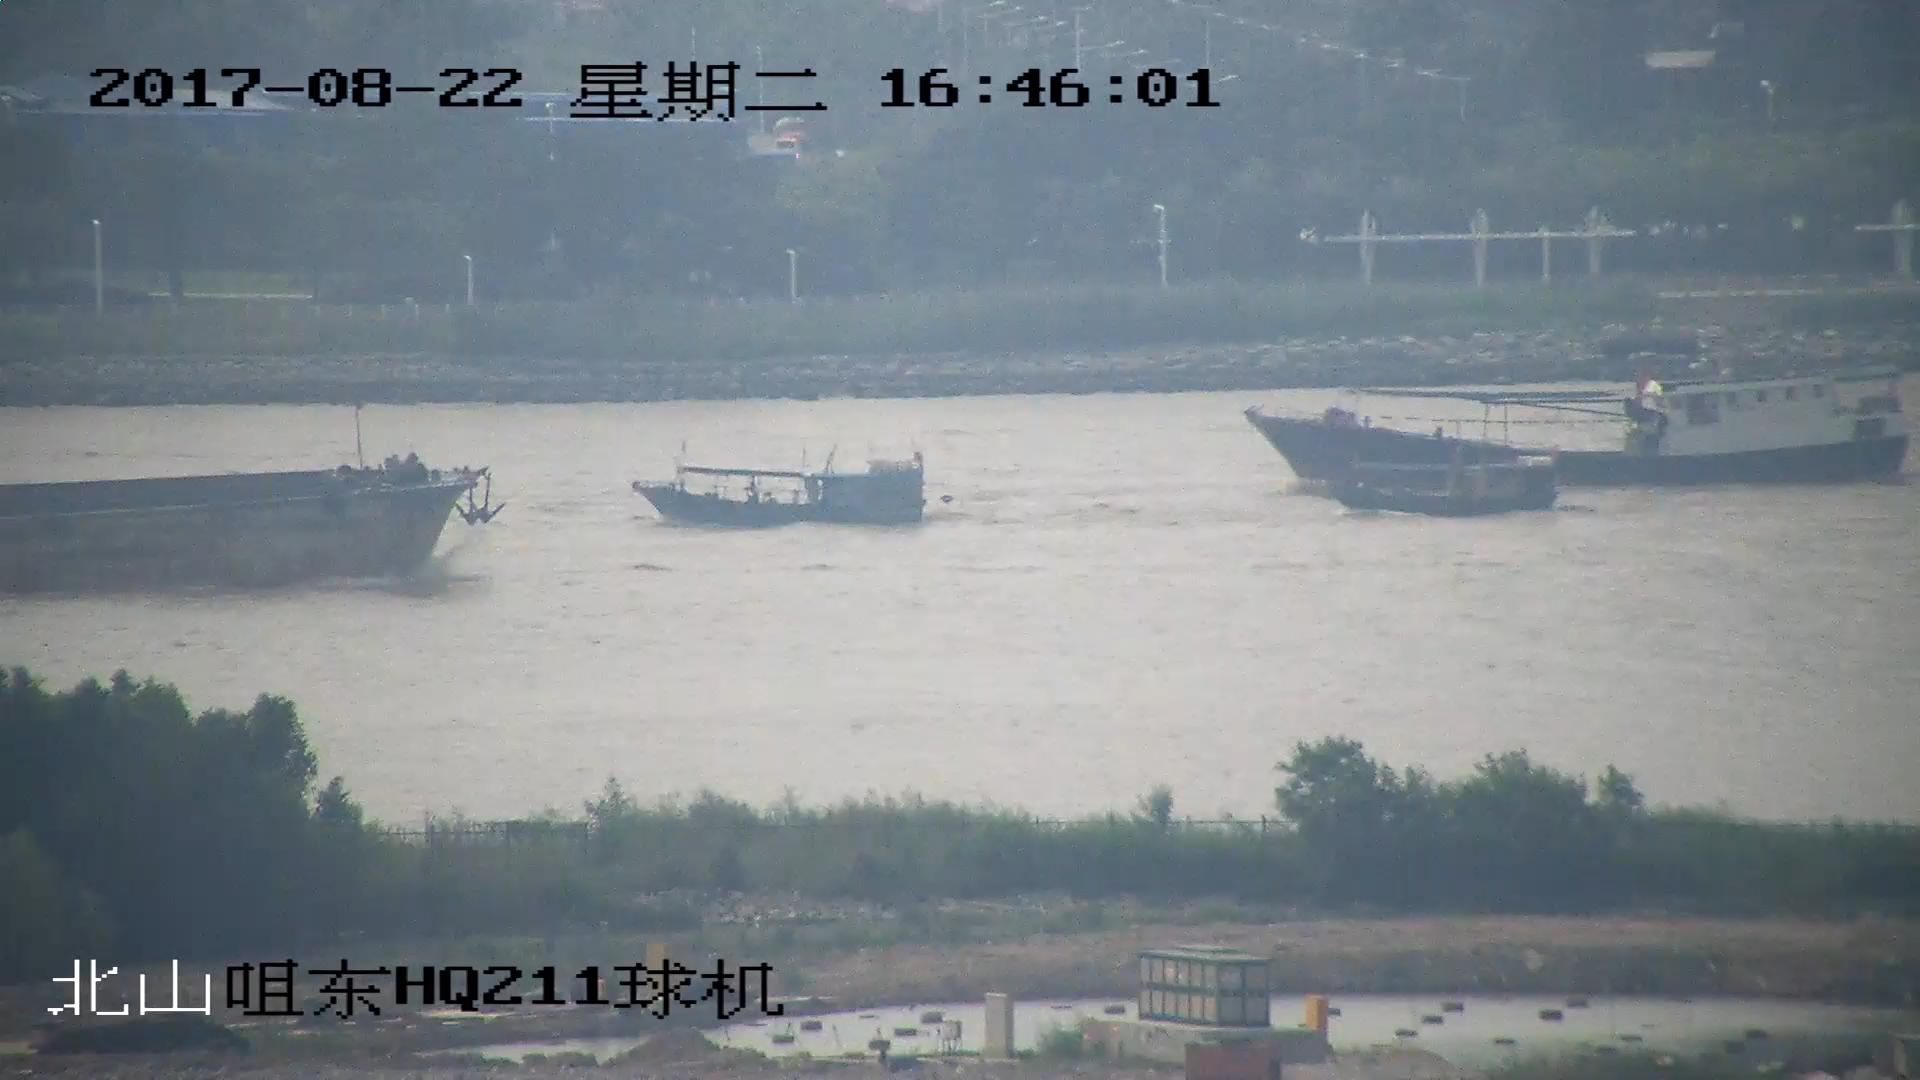bulk cargo carrier: (1, 452, 497, 597)
fishing boat: (1253, 365, 1904, 493), (633, 454, 931, 524), (1336, 456, 1559, 518)
